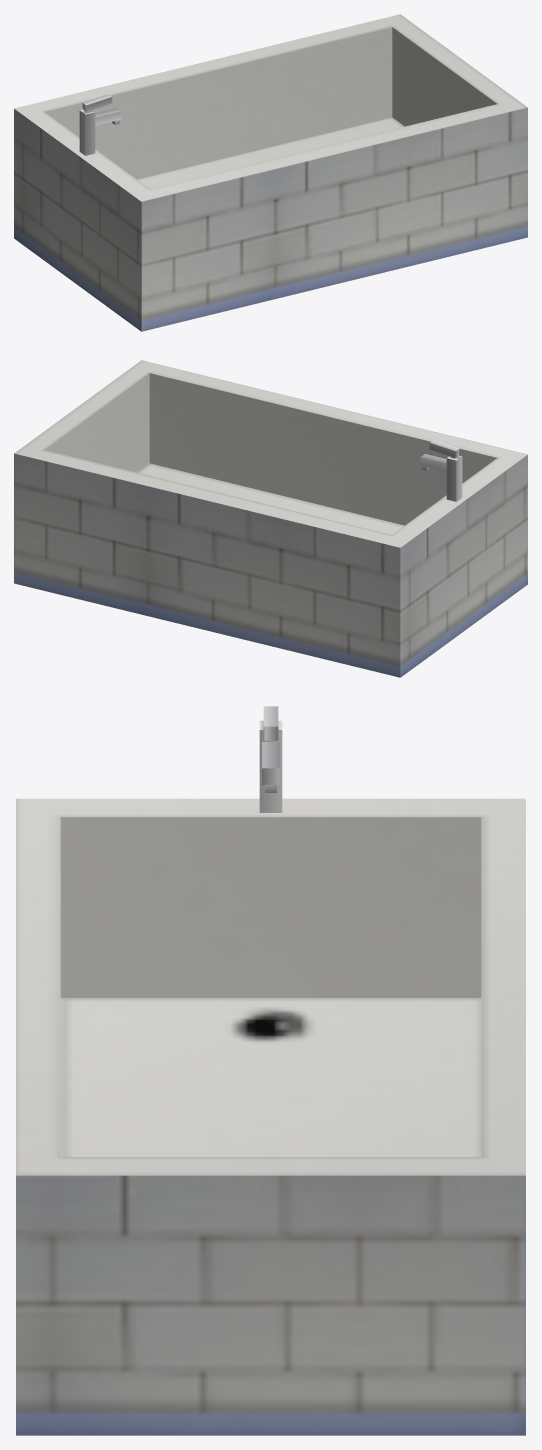
File: Bath_Tub_1.fbx
3 views of the same model, one above another, from view 1: azimuth 30°, elevation 25°; view 2: azimuth 150°, elevation 25°; view 3: azimuth 270°, elevation 25° (orthographic). The views are drawn at different scales.
Parts seen in each view (by area): view 1: polySurface1550; view 2: polySurface1550; view 3: polySurface1550.
Boxes of the visible parts, x1,y1,x2,y2 form: polySurface1550: (14,14,527,331); polySurface1550: (14,360,527,677); polySurface1550: (16,706,525,1435).
Size of the model in its own units: 1.4 by 0.6293 by 0.8.
